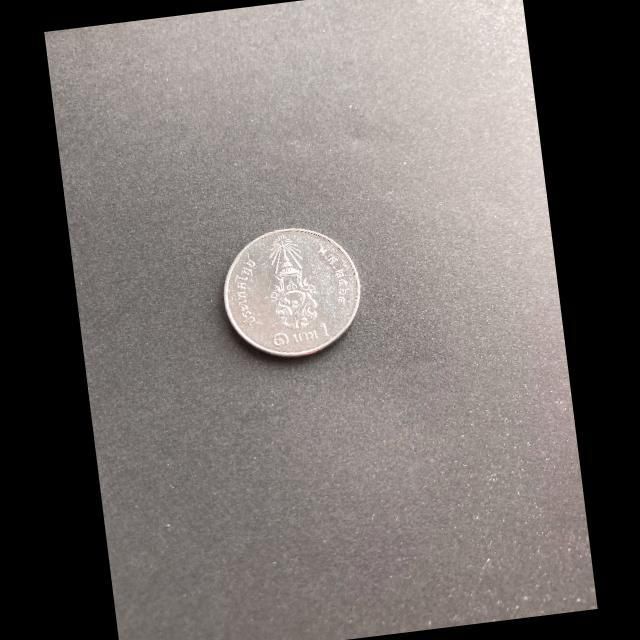1 Bath: (224, 227, 365, 360)
